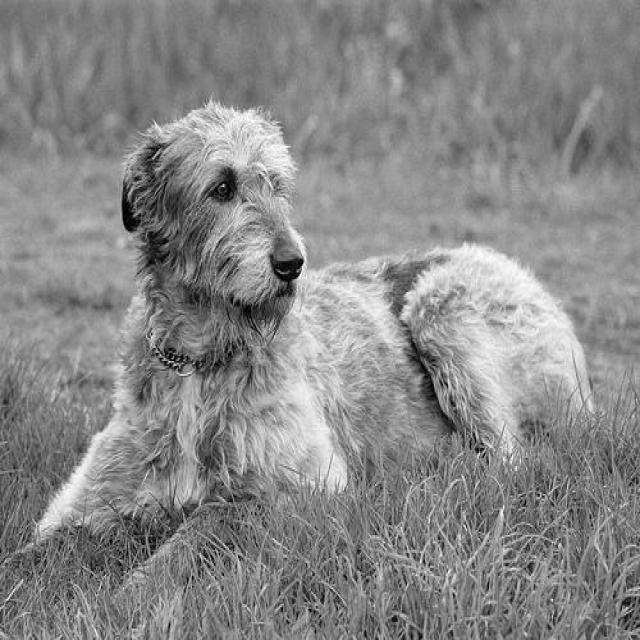irish_wolfhound: (0, 93, 599, 632)
